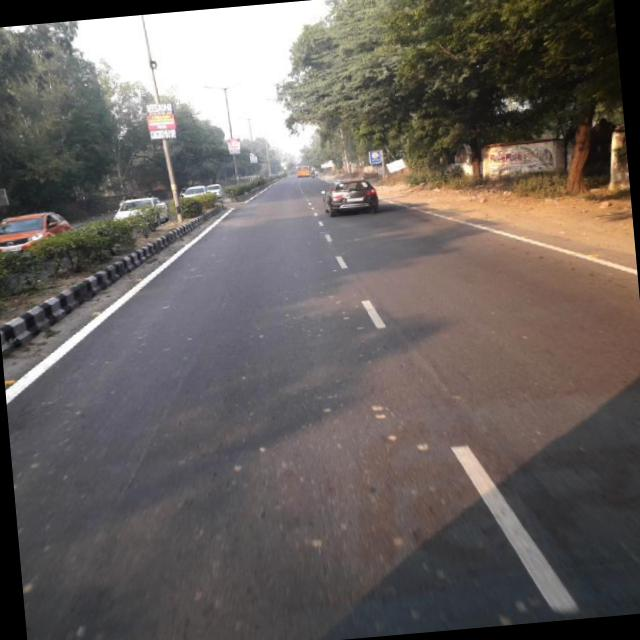pothole: (66, 292, 258, 566)
